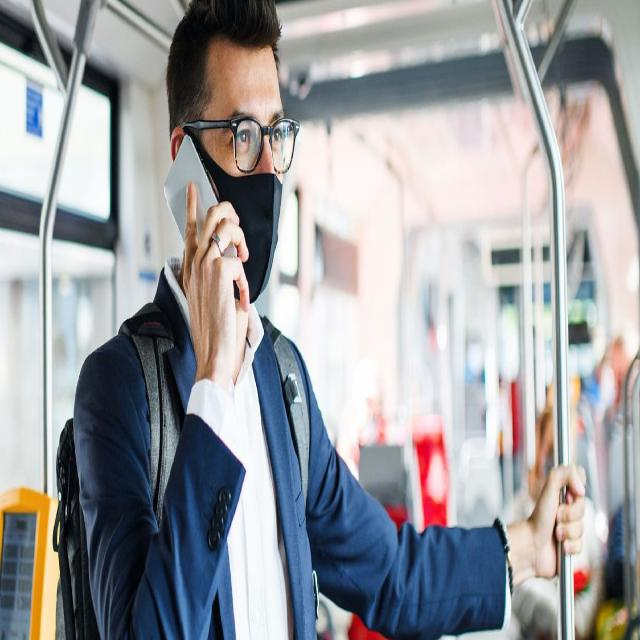Glasses: (176, 100, 302, 180)
